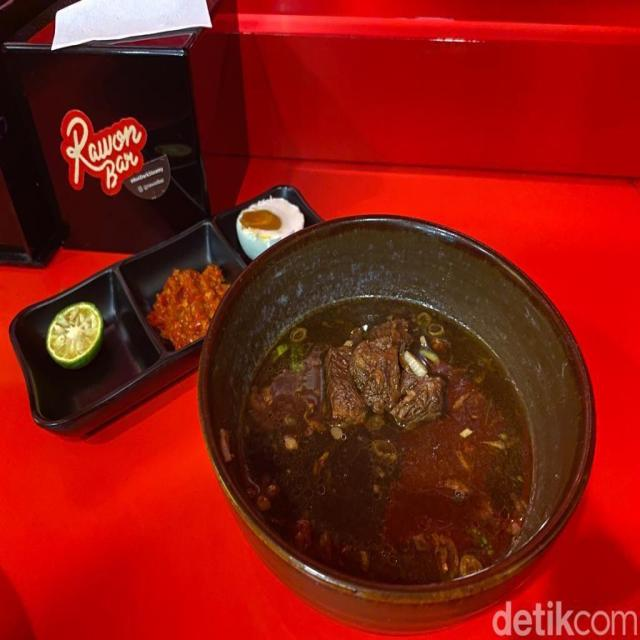Rawon: (245, 262, 547, 570)
